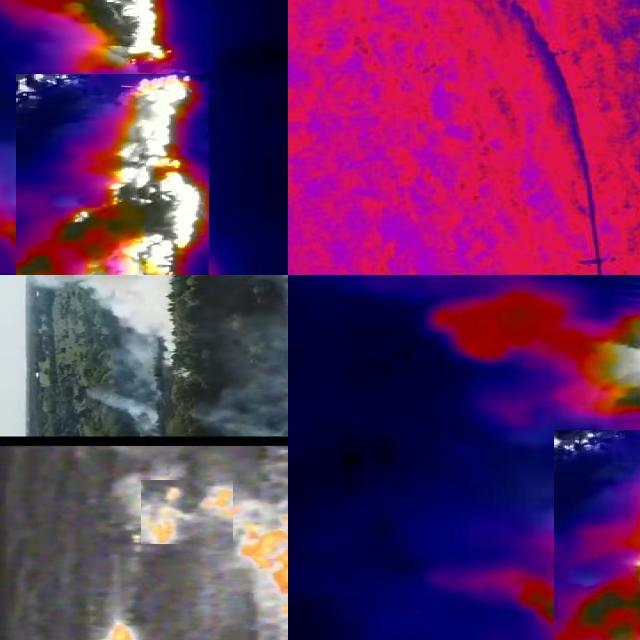fire: (16, 75, 209, 276), (554, 431, 640, 640), (565, 299, 640, 419), (51, 1, 173, 68), (239, 517, 289, 640), (141, 481, 233, 545), (100, 617, 152, 640)
